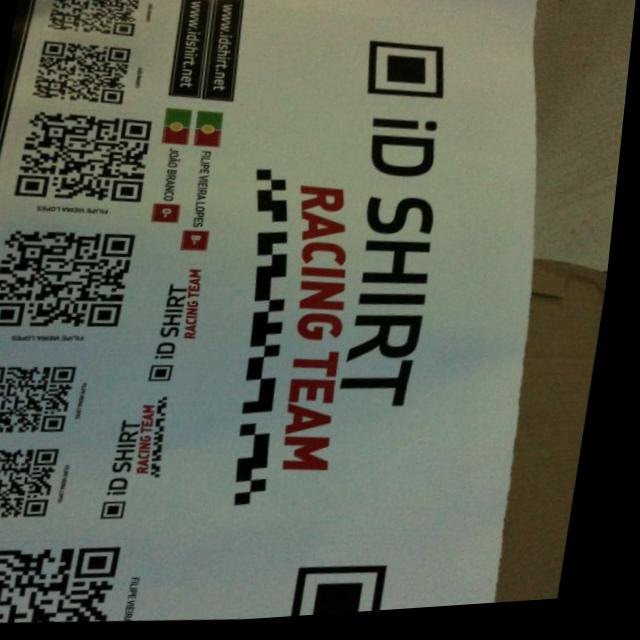qrcode: (1, 224, 143, 336), (18, 107, 160, 212), (1, 543, 135, 634), (34, 38, 133, 112), (1, 363, 85, 438), (1, 446, 70, 524), (47, 1, 141, 43)
